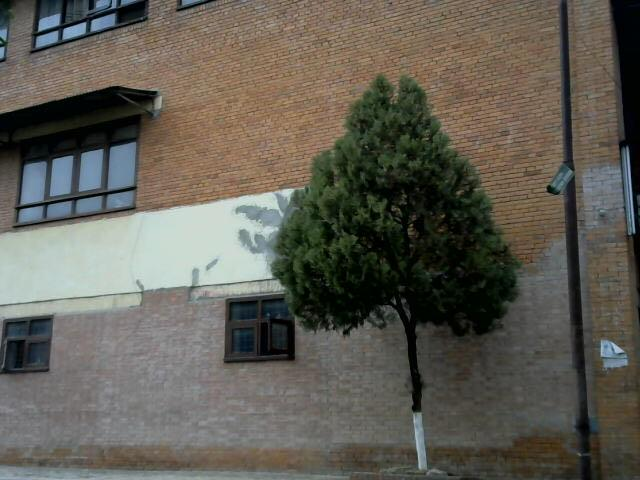Building: (1, 4, 336, 480)
Electrical Pole: (539, 0, 591, 480)
Tree: (269, 79, 506, 479)
